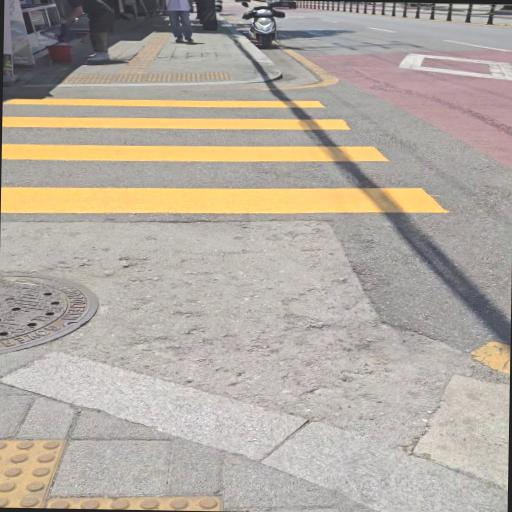yellow-crosswalk: (0, 86, 484, 242)
